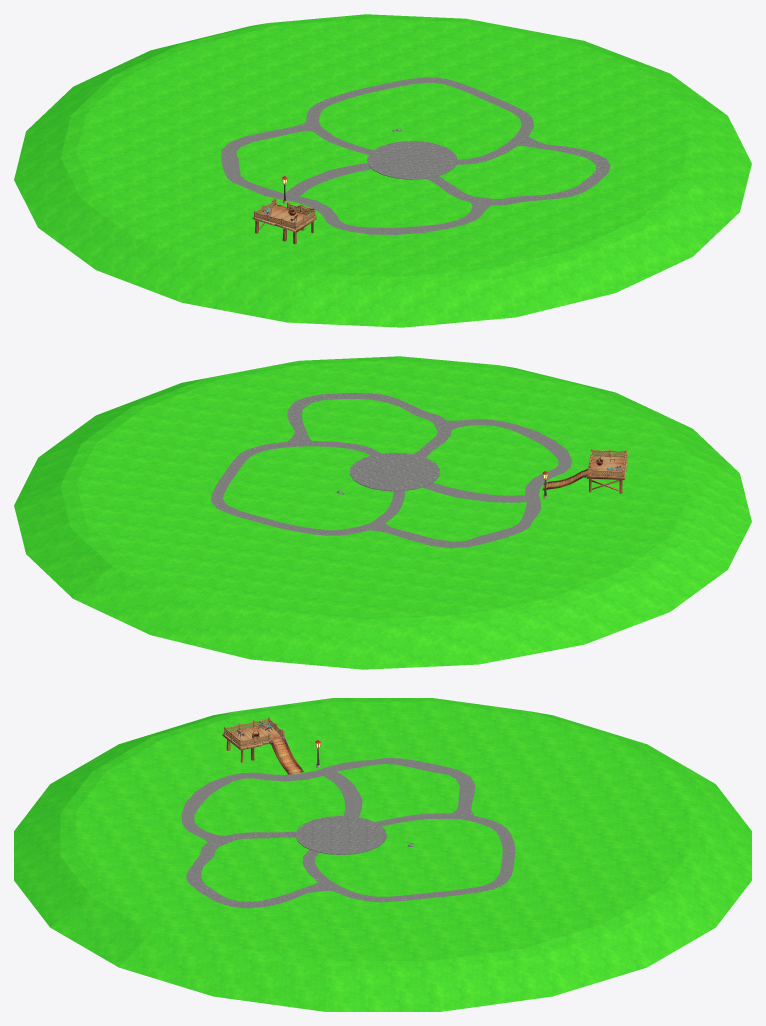
3 renders of one model, top to bottom at view 1: azimuth 30°, elevation 25°; view 2: azimuth 150°, elevation 25°; view 3: azimuth 270°, elevation 25°, orthographic.
Parts seen in each view (by area): view 1: Staze_i_pod, Balon; view 2: Staze_i_pod, Balon; view 3: Staze_i_pod, Balon.
Part boxes in pixels (box(x1,y1,x2,y2)): Staze_i_pod: box(14, 14, 751, 327); Balon: box(253, 176, 316, 244); Staze_i_pod: box(14, 356, 751, 669); Balon: box(542, 449, 627, 498); Staze_i_pod: box(14, 698, 751, 1011); Balon: box(223, 717, 321, 767).
Size of what is drawn, in the model's own units: 0.4628 by 0.0358 by 0.4628.
Materials: 11 (11 with a texture image).
